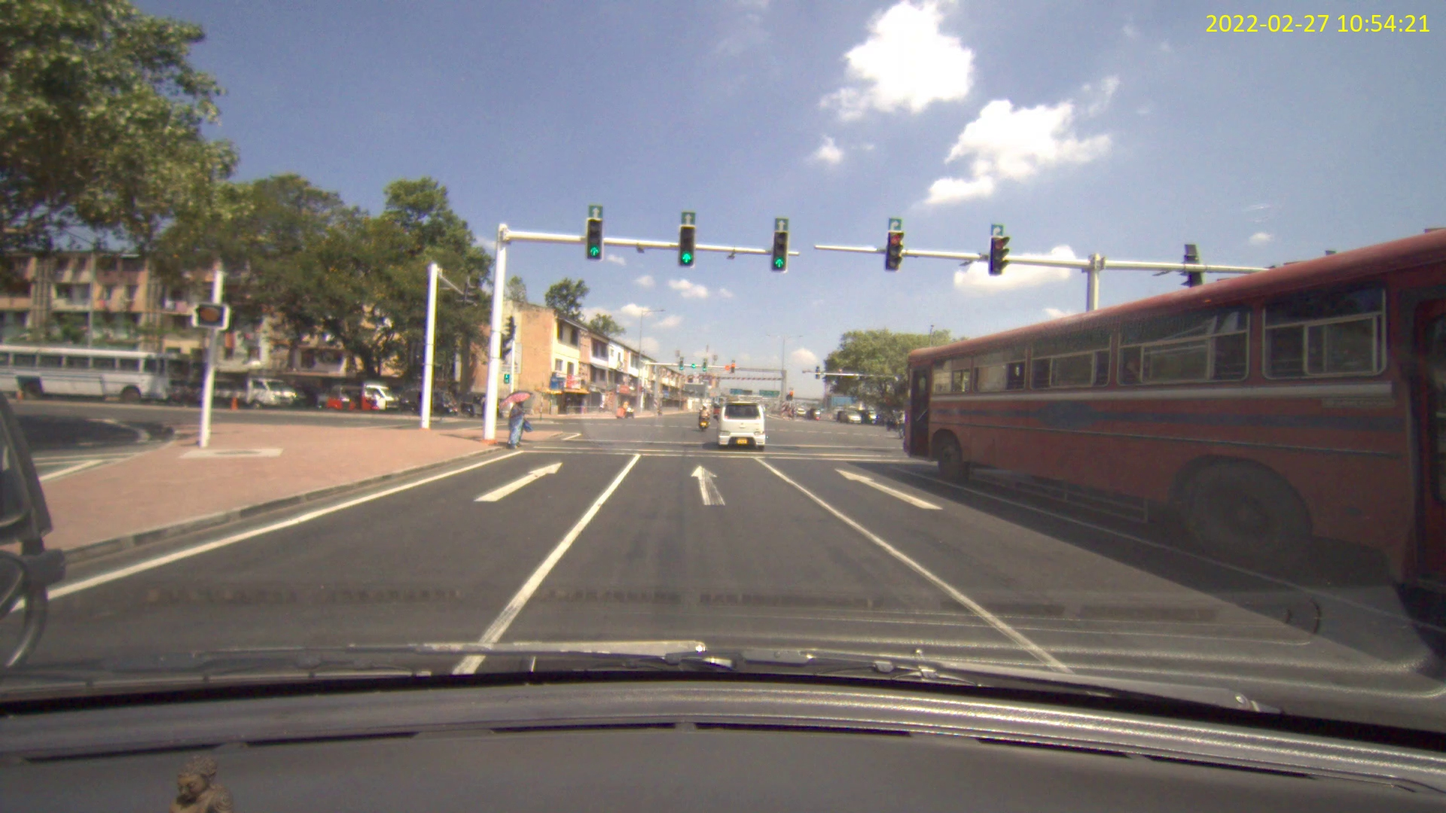Green-up: (770, 230, 789, 273), (585, 218, 602, 262), (678, 224, 694, 268)
Red: (987, 236, 1009, 276), (885, 230, 902, 271)
Yellow: (192, 302, 230, 330)
